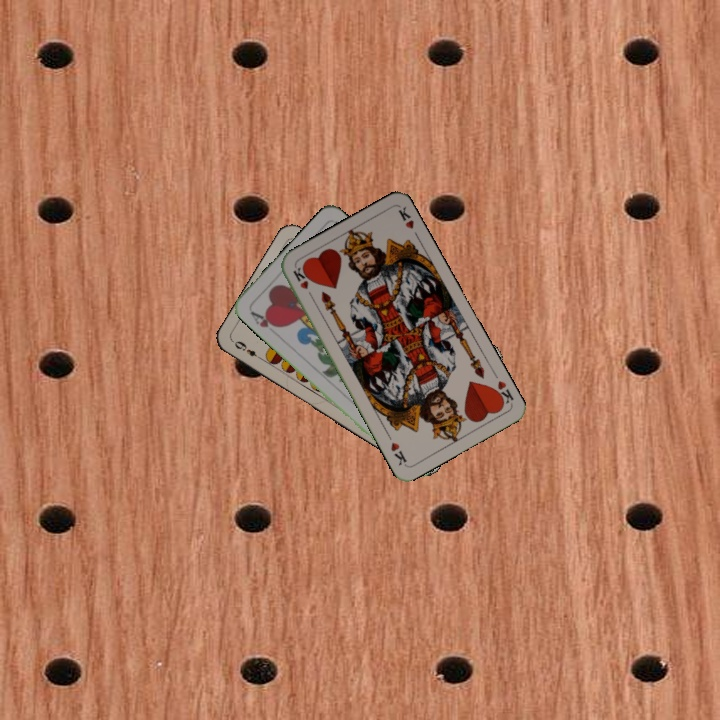E9: (229, 336, 265, 363)
HA: (247, 307, 282, 330)
HK: (289, 263, 316, 301), (489, 377, 516, 409)
